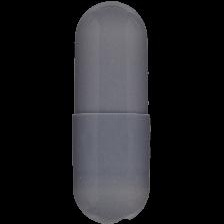0615-1324: (0, 0, 224, 224)
